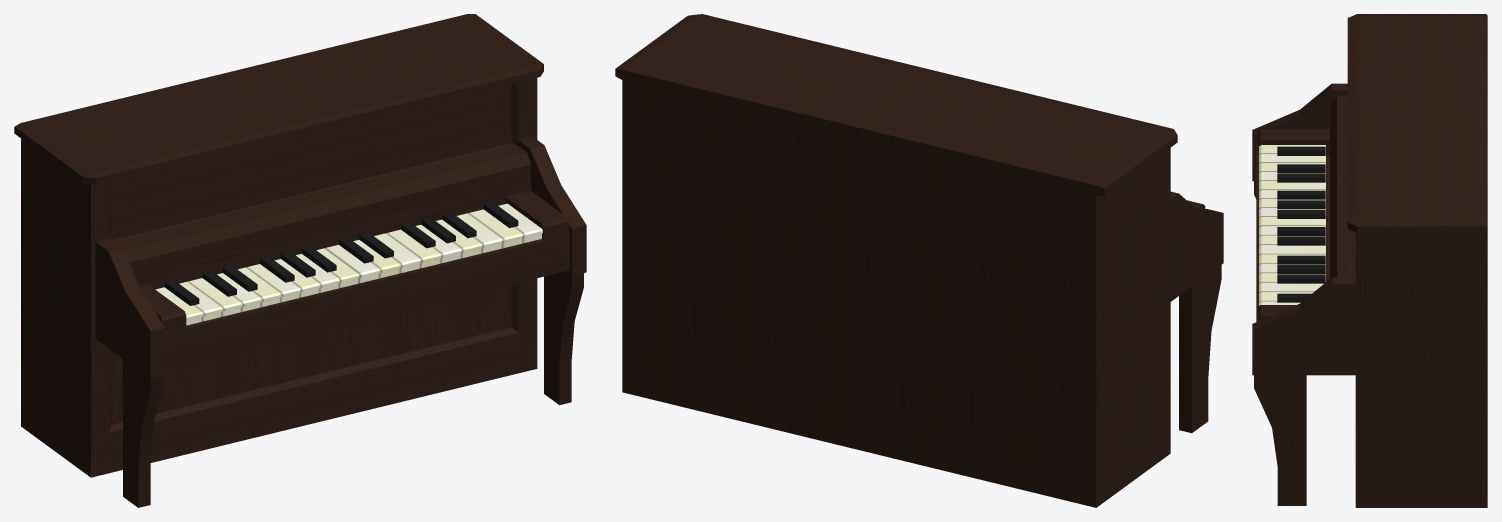
The model's file is Piano_D.FBX.
The picture shows the model from 3 angles, left to right: view 1: azimuth 30°, elevation 25°; view 2: azimuth 150°, elevation 25°; view 3: azimuth 270°, elevation 25°; orthographic projection. The views are drawn at different scales.
Visible parts, largest first — view 1: Piano; view 2: Piano; view 3: Piano.
Boxes of the visible parts, <box> form: Piano: <box>14,14,586,507</box>; Piano: <box>615,14,1223,507</box>; Piano: <box>1252,14,1487,507</box>.
Bounding box in the file's own units: 362 × 228 × 170.
